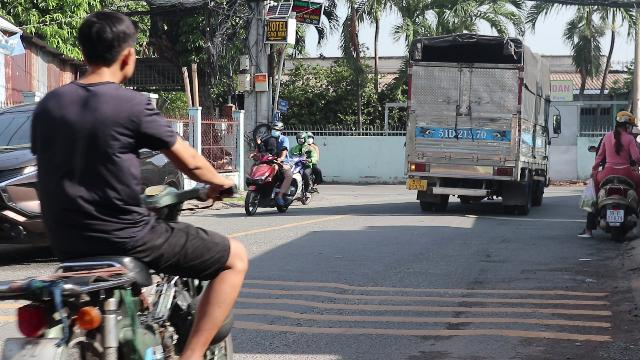helmet: (612, 109, 632, 130), (270, 121, 282, 136)
licenseplate: (607, 210, 623, 221)
motorcyclist: (1, 7, 256, 355), (579, 108, 639, 240), (242, 120, 294, 216)
nohelmet: (72, 9, 138, 83)
